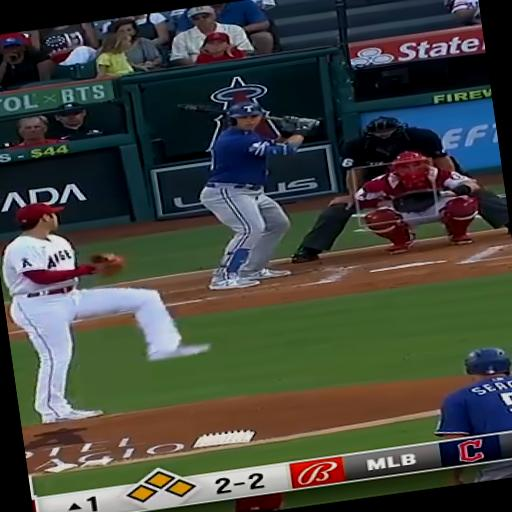bat: (267, 116, 321, 127)
